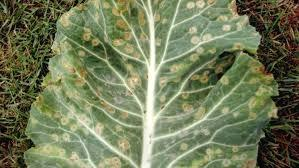Bok-Choy-Diseased: (43, 4, 258, 168)
